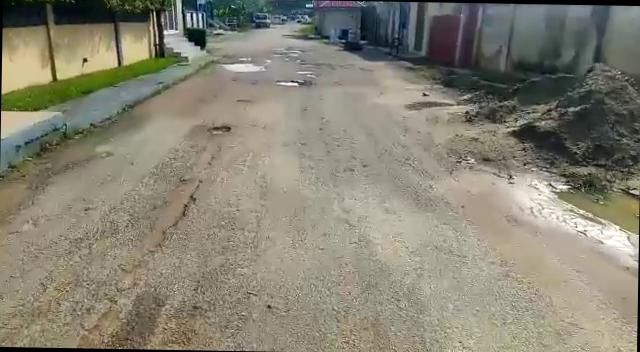pothole: (218, 60, 268, 74), (272, 77, 310, 86), (207, 125, 233, 135)
